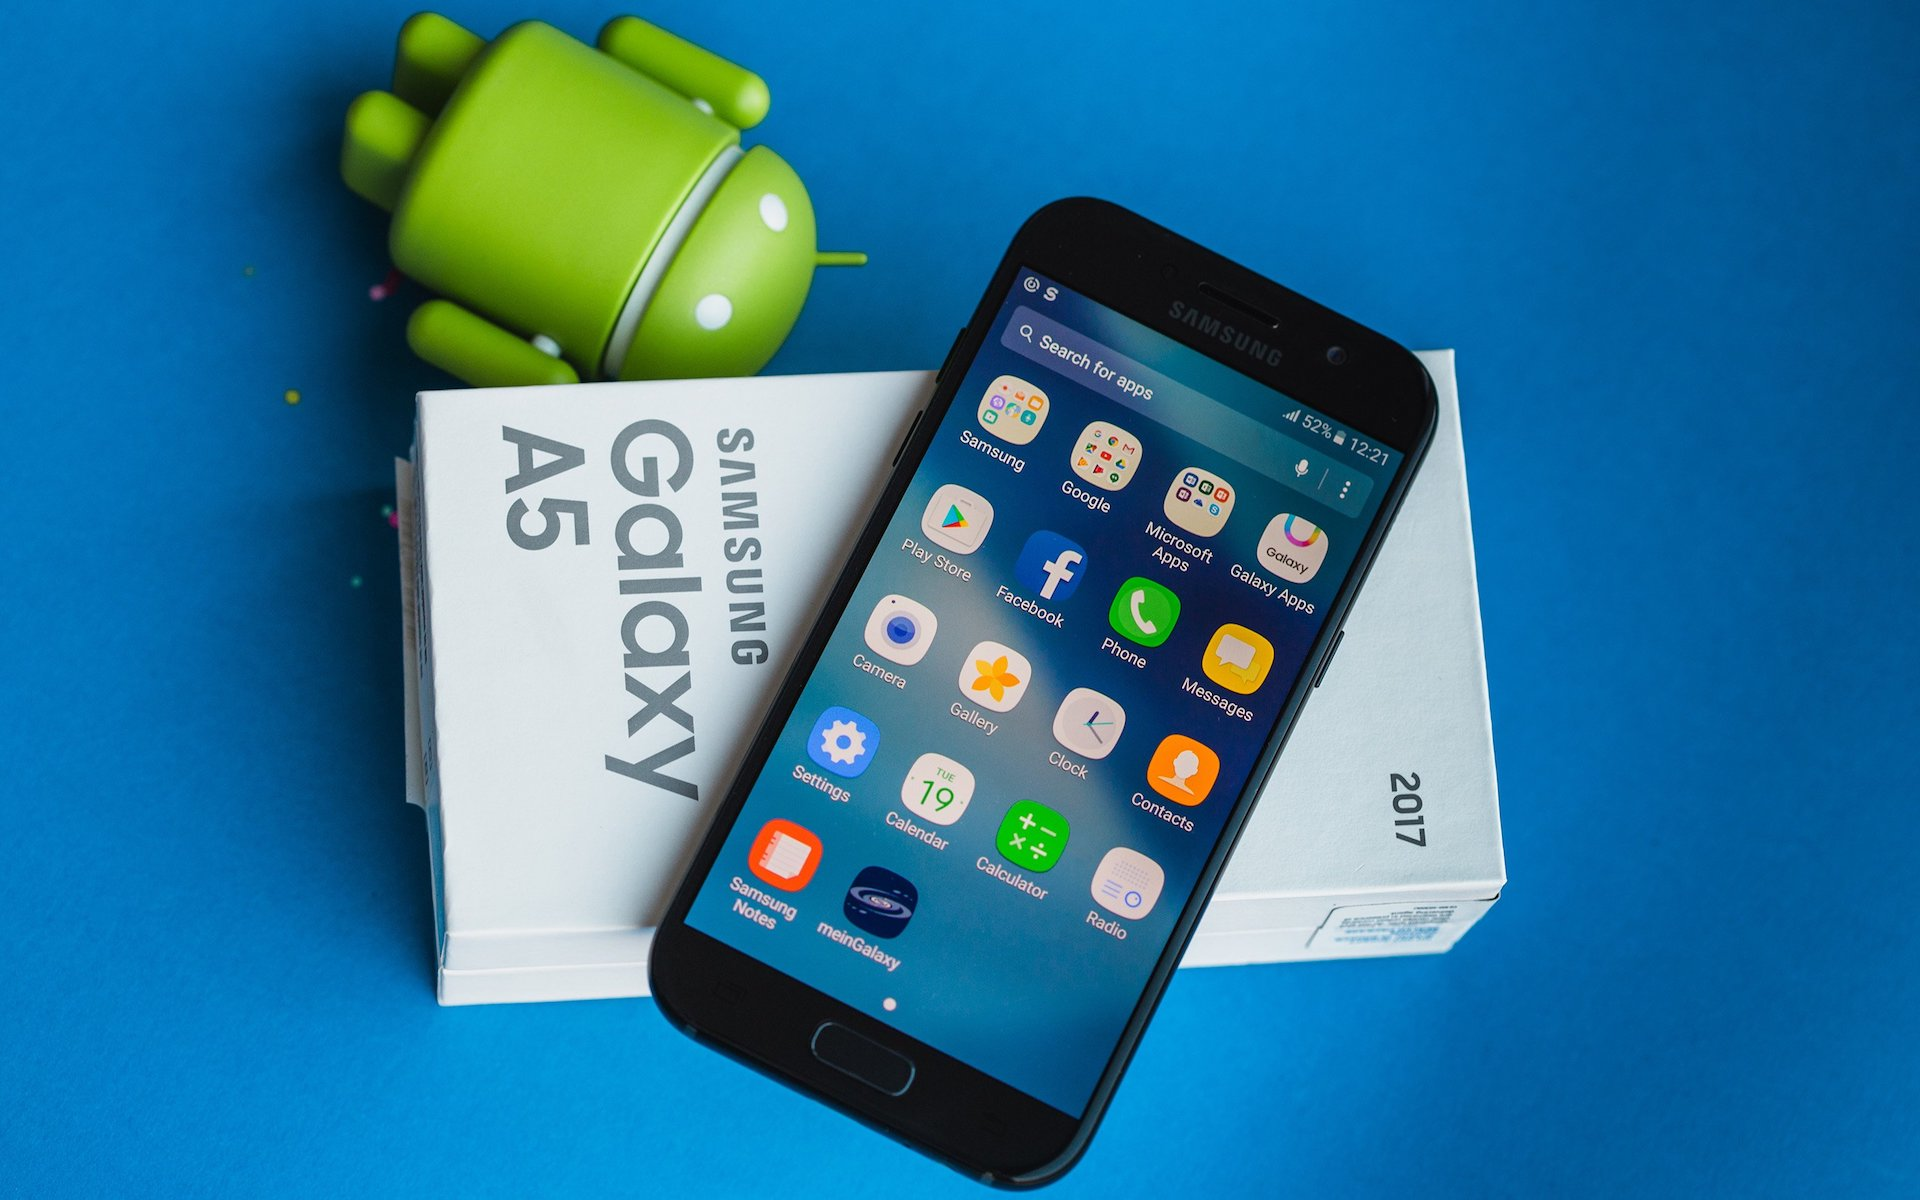smartphone: (646, 189, 1446, 1193)
